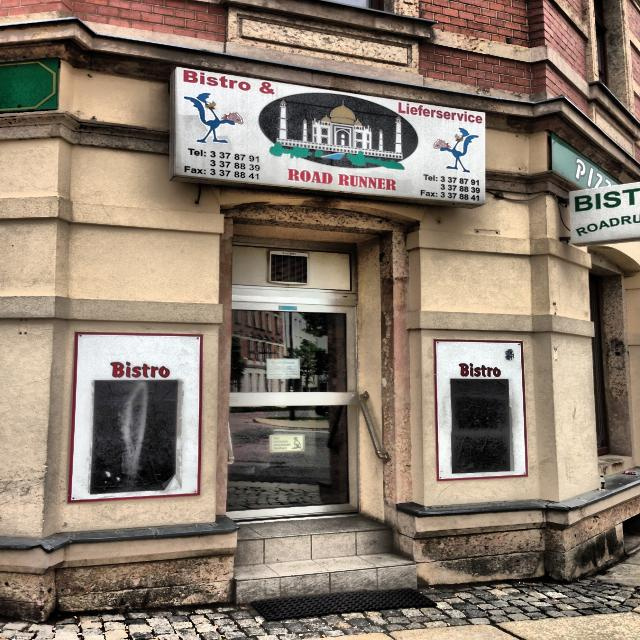escada: (231, 523, 420, 604)
